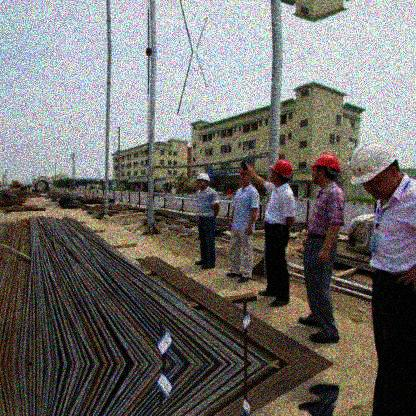helmet: (347, 141, 399, 195), (307, 150, 344, 185), (273, 160, 293, 186), (238, 164, 255, 183), (194, 173, 210, 186)
